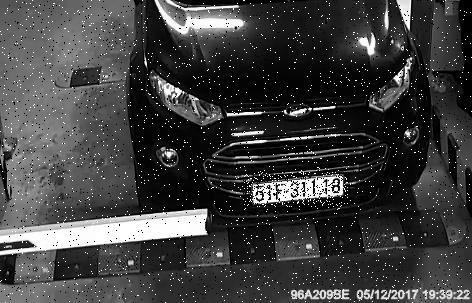License-plate: (245, 173, 353, 208)
